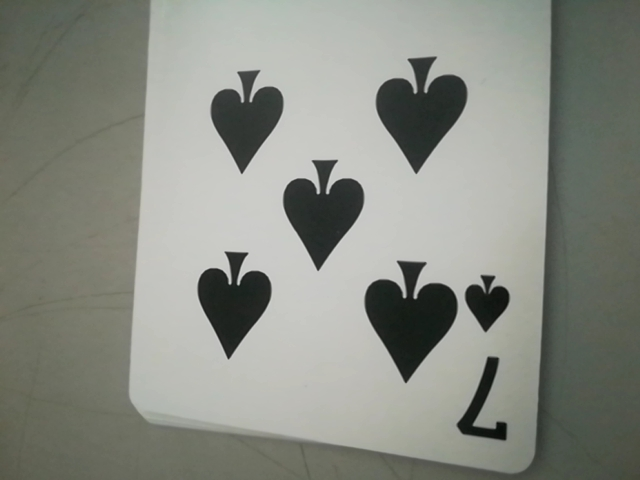ht 7: (463, 272, 518, 446)
